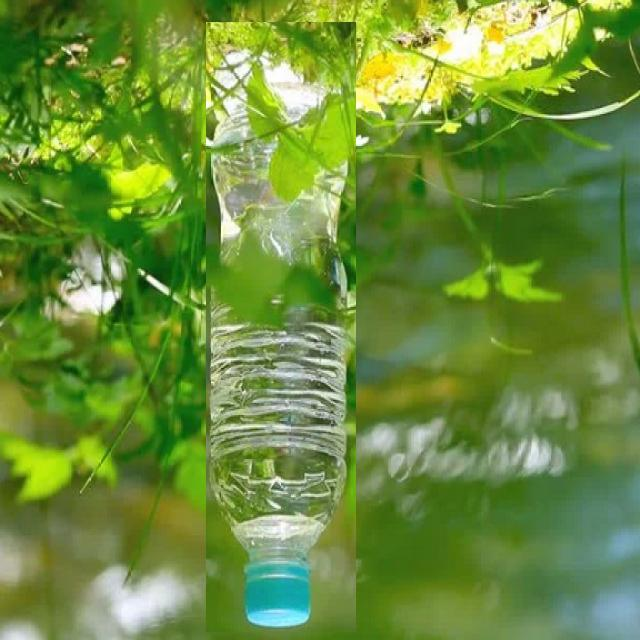Plastic Bottle: (206, 22, 356, 632)
